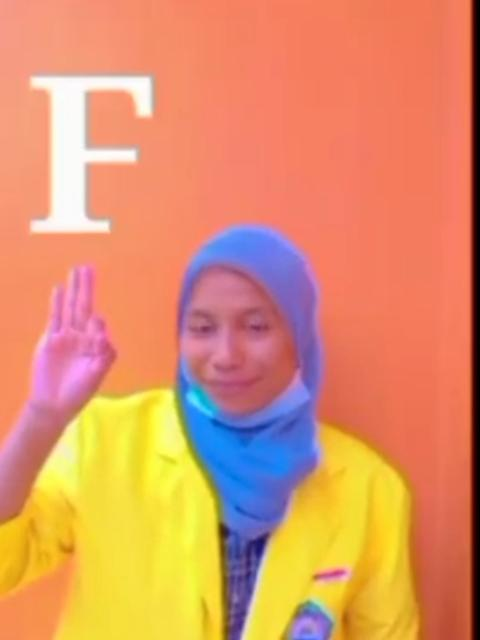F: (27, 263, 119, 425)
